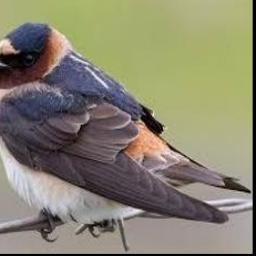Swallow: (0, 22, 252, 226)
